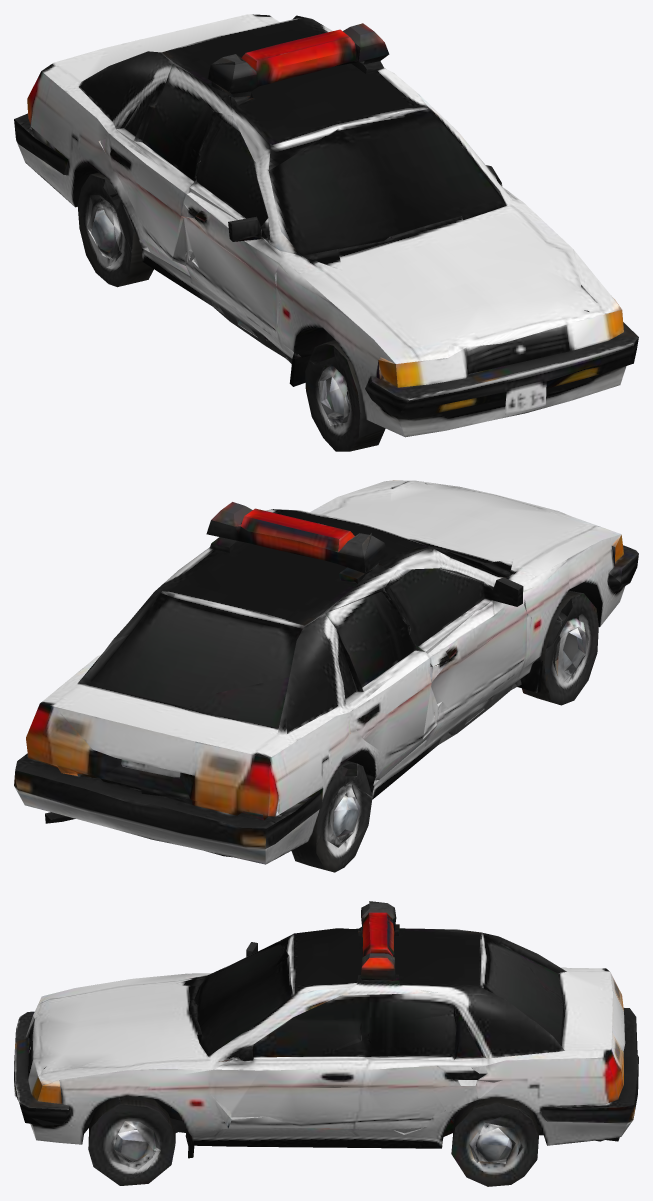
Rendered from police_car.glb.
3 renders of one model, top to bottom at view 1: azimuth 30°, elevation 25°; view 2: azimuth 150°, elevation 25°; view 3: azimuth 270°, elevation 25°, orthographic. The views are drawn at different scales.
Parts seen in each view (by area): view 1: police_car; view 2: police_car; view 3: police_car.
Boxes of the visible parts, bbox=[...] form: police_car: bbox=[14, 14, 638, 451]; police_car: bbox=[14, 480, 638, 872]; police_car: bbox=[14, 901, 638, 1186].
Size of the model in its own units: 1.96 by 1.81 by 4.8.
Materials: 1 (1 with a texture image).
